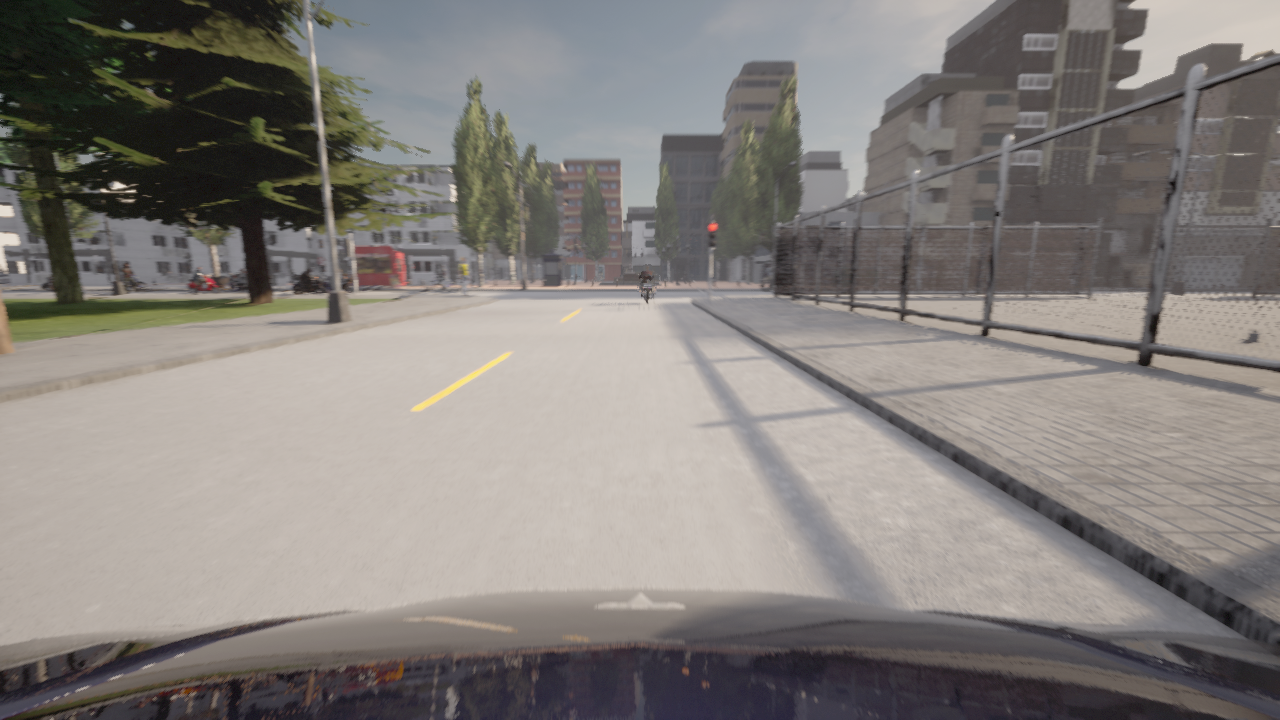cyclist: (0, 588, 1279, 719), (289, 274, 330, 293), (324, 273, 358, 293), (187, 273, 219, 293), (637, 273, 657, 304), (123, 277, 147, 293), (229, 273, 247, 292), (428, 280, 454, 291), (41, 277, 54, 291)
pedestrian: (458, 257, 469, 296), (761, 264, 771, 286)
